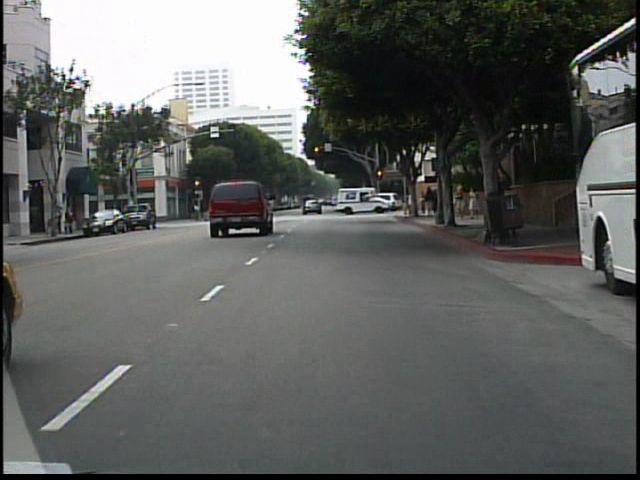person: (468, 181, 481, 223), (454, 183, 467, 221)
